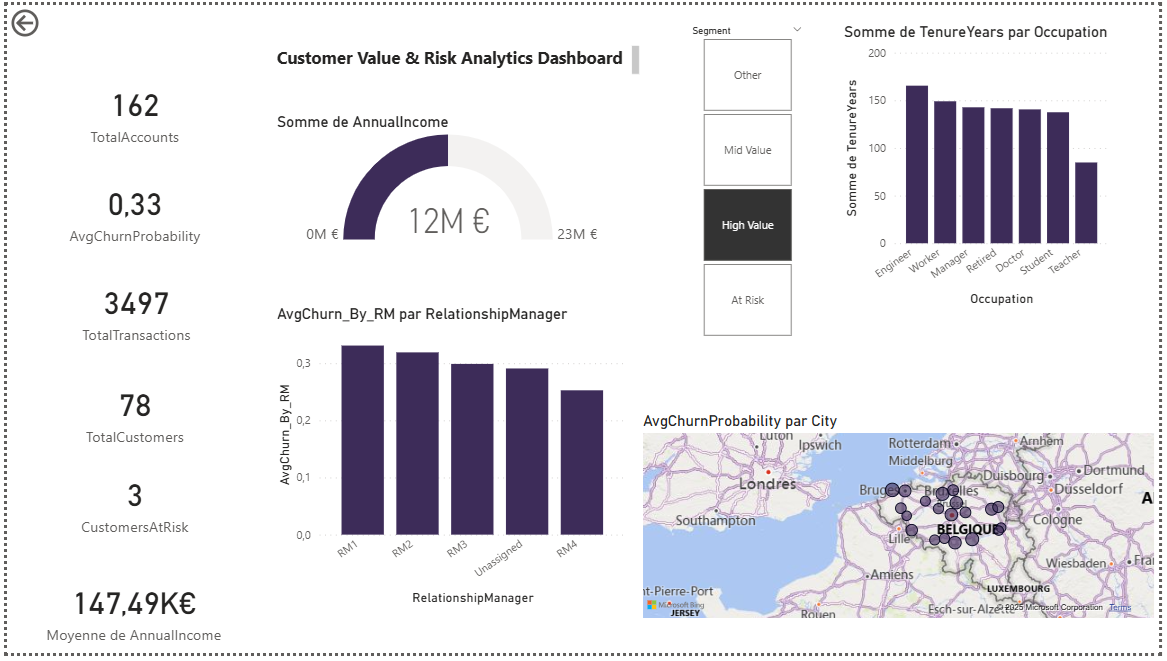

This screenshot's page, from the dashboard's own definition file:
{"tool":"powerbi","page":{"name":"Page 1","canvas":[1280,720],"ordinal":0},"visuals":[{"type":"textbox","box":[88,437,150,150],"z":0},{"type":"textbox","box":[461.1,5.7,151.2,151.2],"z":1000},{"type":"actionButton","box":[0,0,100,40],"z":2000},{"type":"map","fields":{"Category":["customers.City"],"Size":["customers.AvgChurnProbability"]},"box":[669.8,401.3,577.6,234.6],"z":3000},{"type":"card","fields":{"Values":["customers.CustomersAtRisk"]},"box":[21,503.2,240.2,98.2],"z":4000},{"type":"card","fields":{"Values":["accounts.TotalAccounts"]},"box":[21,70.1,240.2,98.2],"z":5000},{"type":"card","fields":{"Values":["customers.TotalCustomers"]},"box":[21,401.5,240.2,99.9],"z":6000},{"type":"card","fields":{"Values":["transactions.TotalTransactions"]},"box":[22.8,289.3,240.2,98.2],"z":7000},{"type":"card","fields":{"Values":["customers.AvgChurnProbability"]},"box":[21,178.8,240.2,99.9],"z":8000},{"type":"textbox","box":[89,40.4,415.8,46.9],"z":9000},{"type":"slicer","fields":{"Values":["customers.Segment"]},"box":[749.1,16.2,147.2,357.6],"z":11000},{"type":"lineStackedColumnComboChart","fields":{"Y":["customers.AvgChurn_By_RM"],"Category":["customers.RelationshipManager"]},"box":[260.5,333.3,380.2,338.2],"z":12000},{"type":"lineClusteredColumnComboChart","fields":{"Y":["Sum(customers.TenureYears)"],"Category":["customers.Occupation"]},"box":[925.5,19.4,304.2,318.7],"z":13000},{"type":"gauge","fields":{"Y":["Sum(customers.AnnualIncome)"]},"box":[415.6,119.2,277,150.8],"z":13001},{"type":"card","fields":{"Values":["Avg(customers.AnnualIncome)"]},"box":[0,622.5,238.5,98.2],"z":13002}]}

Visuals, with their boxes in screenshot pixels (x1, y1, x2, y2), scaled from the page's 1280x720 canvas onto the 1167x661 screenshot:
textbox: left=80, top=401, right=217, bottom=539
textbox: left=420, top=5, right=558, bottom=144
actionButton: left=0, top=0, right=91, bottom=37
map - customers.City x customers.AvgChurnProbability: left=611, top=368, right=1137, bottom=584
card - customers.CustomersAtRisk: left=19, top=462, right=238, bottom=552
card - accounts.TotalAccounts: left=19, top=64, right=238, bottom=155
card - customers.TotalCustomers: left=19, top=369, right=238, bottom=460
card - transactions.TotalTransactions: left=21, top=266, right=240, bottom=356
card - customers.AvgChurnProbability: left=19, top=164, right=238, bottom=256
textbox: left=81, top=37, right=460, bottom=80
slicer - customers.Segment: left=683, top=15, right=817, bottom=343
lineStackedColumnComboChart - customers.AvgChurn_By_RM x customers.RelationshipManager: left=238, top=306, right=584, bottom=616
lineClusteredColumnComboChart - Sum(customers.TenureYears) x customers.Occupation: left=844, top=18, right=1121, bottom=310
gauge - Sum(customers.AnnualIncome): left=379, top=109, right=631, bottom=248
card - Avg(customers.AnnualIncome): left=0, top=571, right=217, bottom=660
